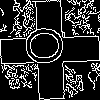O: (25, 25, 73, 66)
